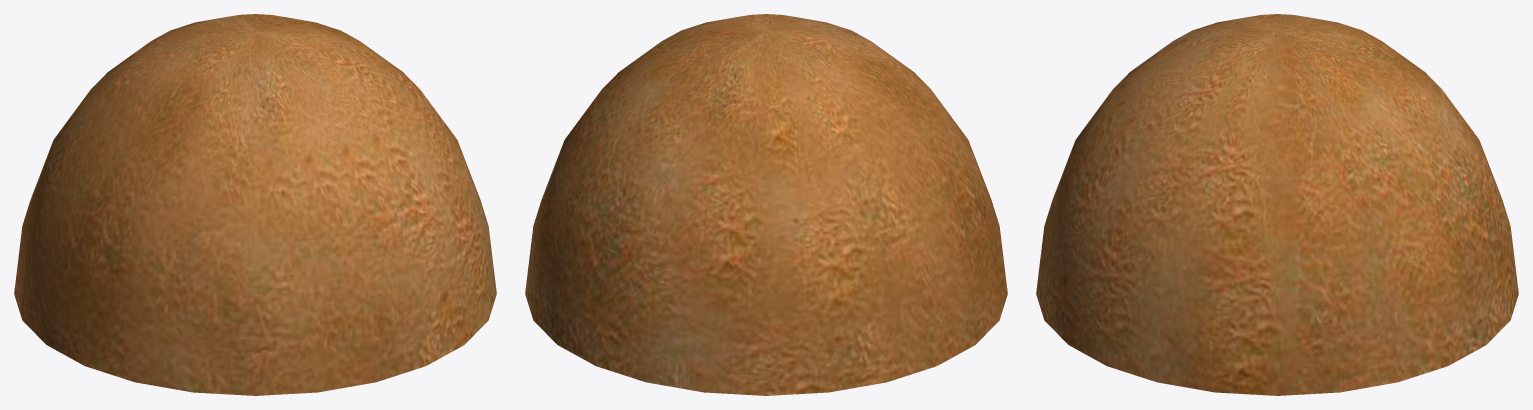
The model's file is kiwi_half2.obj.
3 views of the same model, side by side, from view 1: azimuth 30°, elevation 25°; view 2: azimuth 150°, elevation 25°; view 3: azimuth 270°, elevation 25° (orthographic).
Visible parts, largest first — view 1: default_Grp; view 2: default_Grp; view 3: default_Grp.
Part boxes in pixels (x1,y1,x2,y2): default_Grp: (14, 14, 496, 395); default_Grp: (525, 14, 1007, 395); default_Grp: (1036, 14, 1518, 395).
Bounding box in the file's own units: 60 × 36 × 60.
